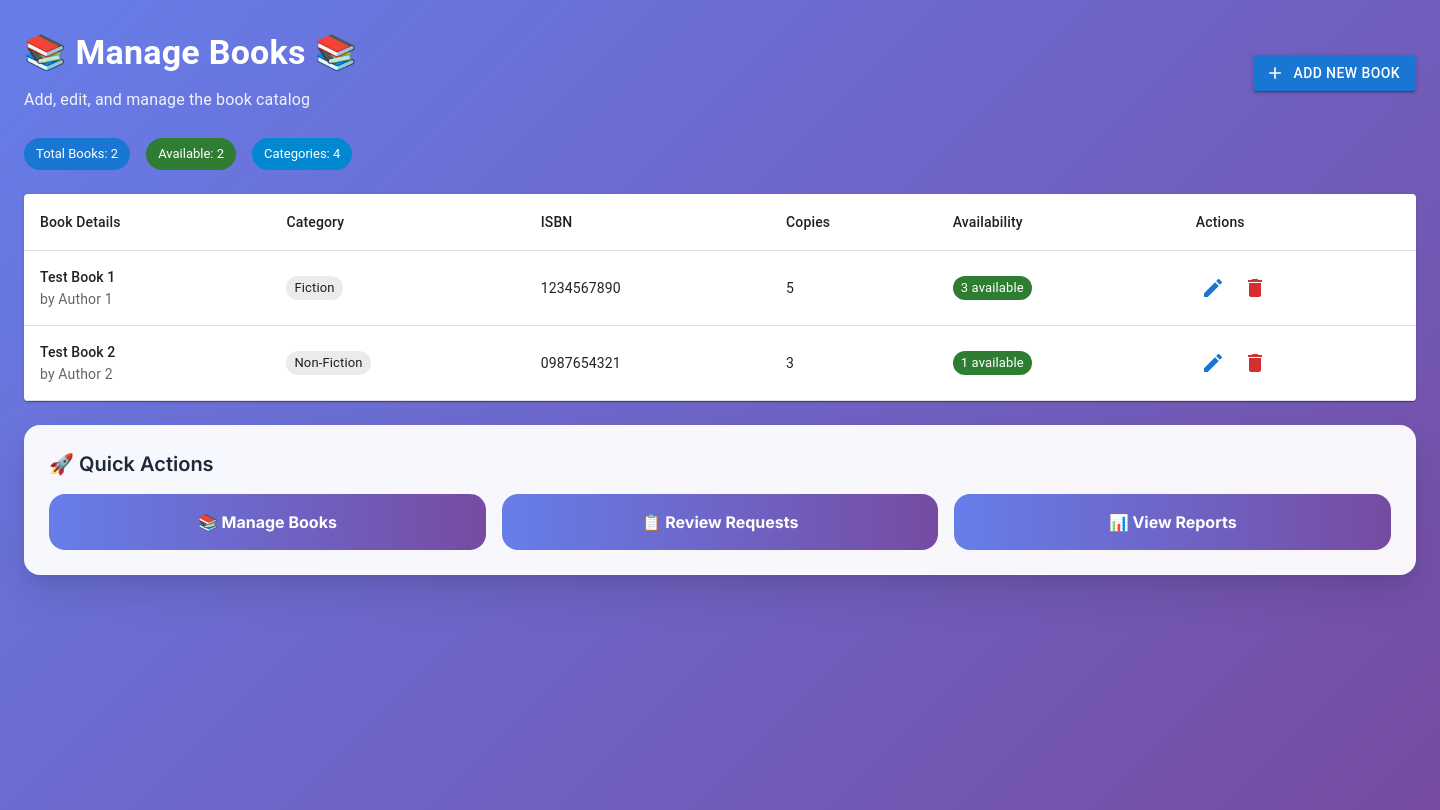
Test: ManageBooks Component › opens edit book dialog
Check: the heading "Test Book 1" is shown, box top-left (40, 269), bottom-right (115, 285)
# Click edit button for first book - look for tooltip text
Click the button named "edit book" in the row of "Test Book 1". click: x=1213, y=288
box: top-left (1196, 271), bottom-right (1230, 305)
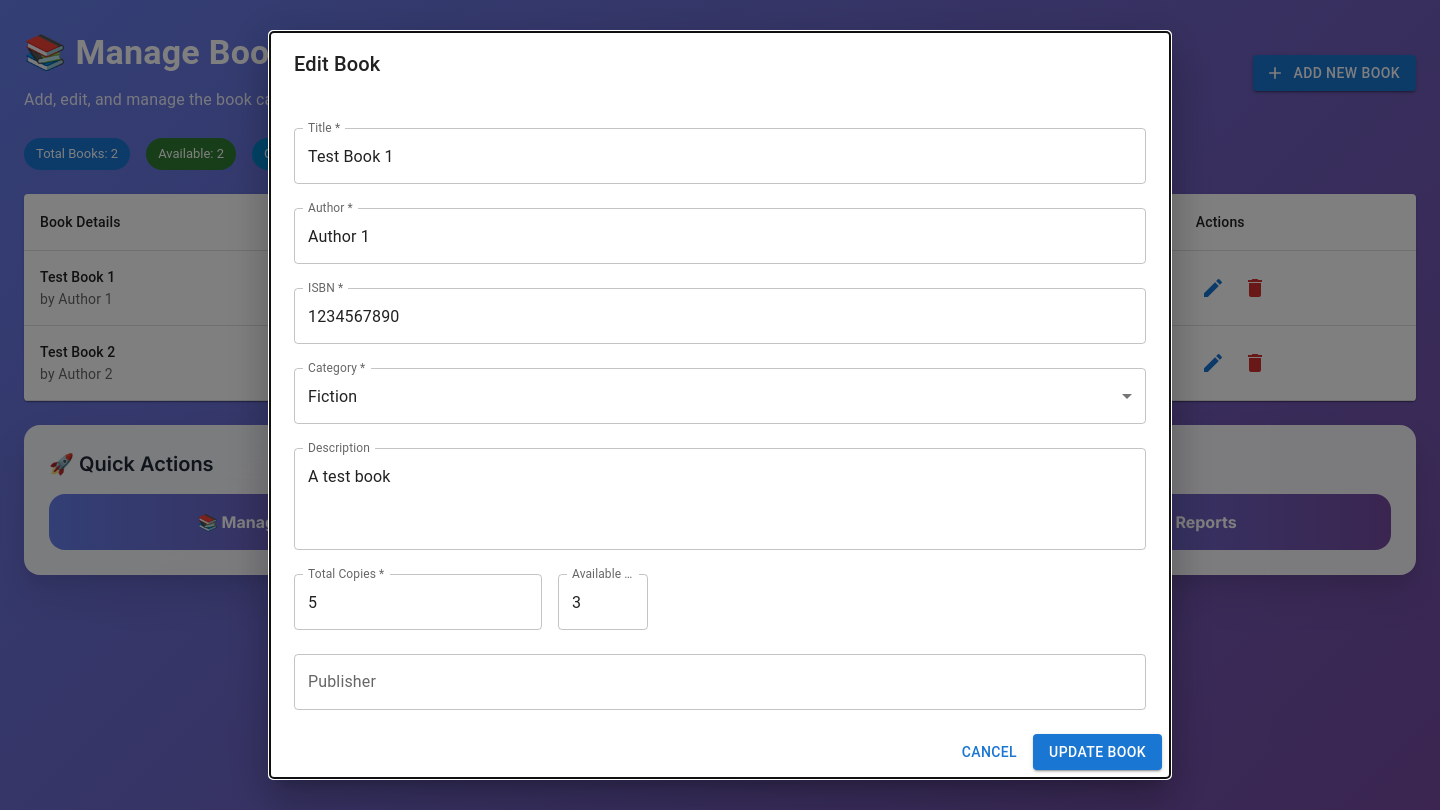
Check: the heading "Edit Book" is shown, box top-left (294, 52), bottom-right (380, 76)
Check: the field showing "Test Book 1" is shown, box top-left (294, 128), bottom-right (1146, 184)
